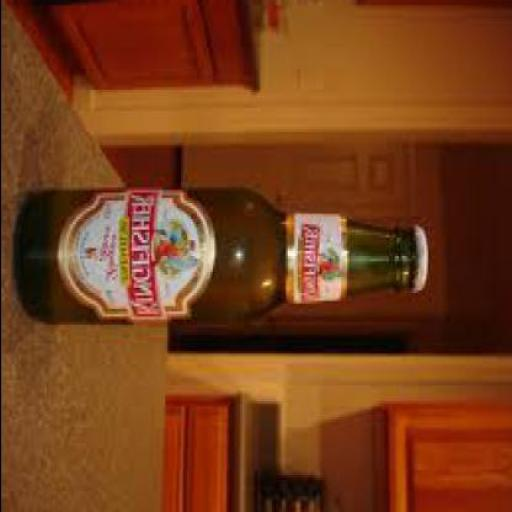glass: (16, 189, 414, 330)
metal: (411, 230, 431, 298)
